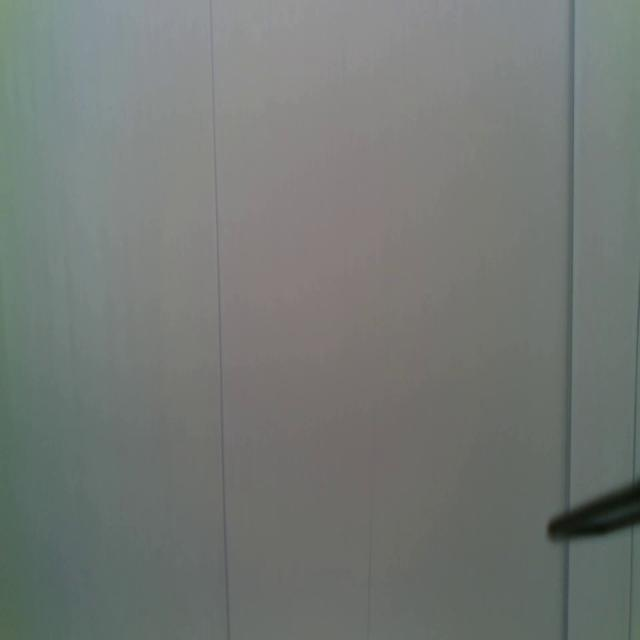crease: (208, 0, 231, 640), (562, 0, 577, 505), (630, 292, 640, 478), (626, 528, 636, 640), (365, 529, 375, 640), (560, 544, 571, 639)
